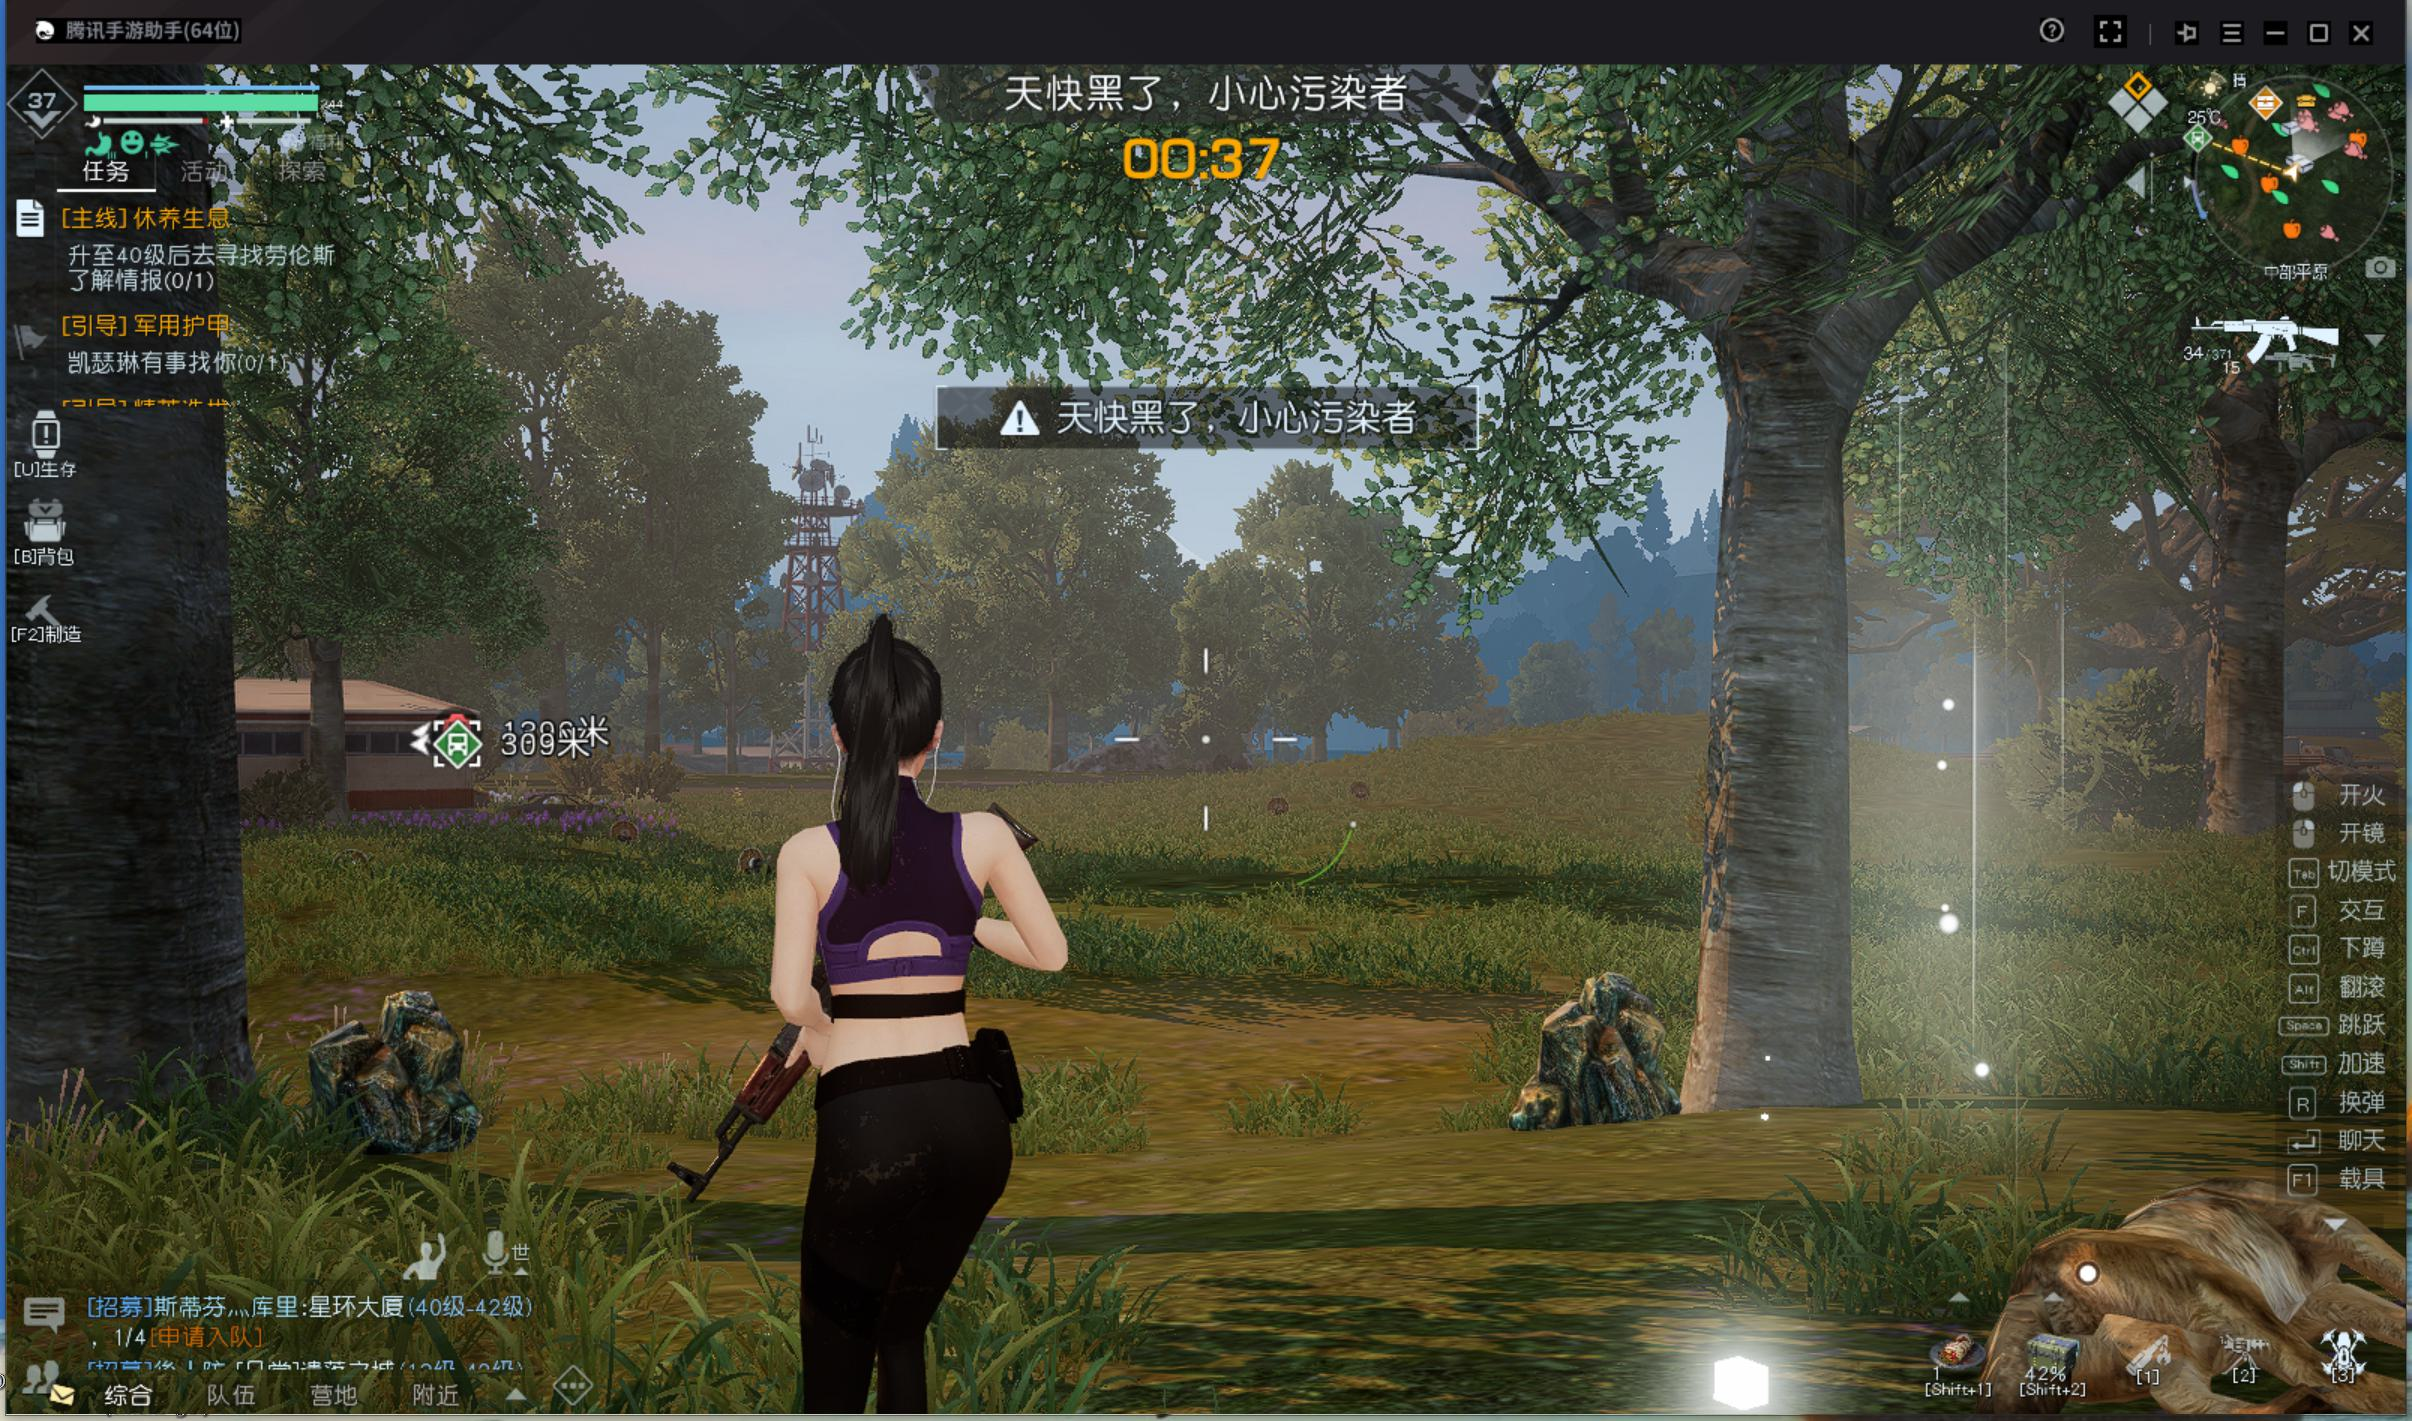stone: (281, 946, 497, 1171), (1460, 946, 1676, 1127)
tree: (1681, 391, 1893, 1150), (2162, 404, 2295, 866), (626, 626, 678, 805), (1027, 602, 1066, 776)
